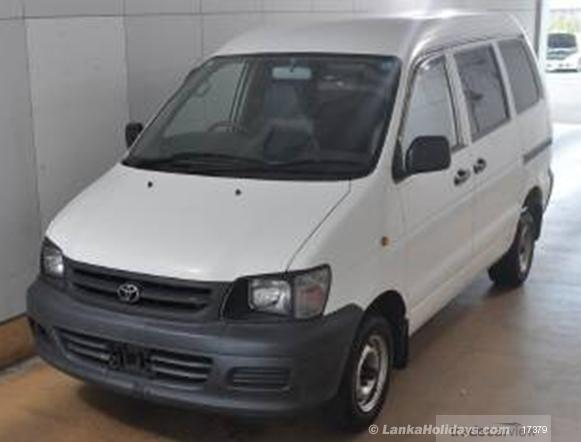van: (26, 6, 550, 430)
